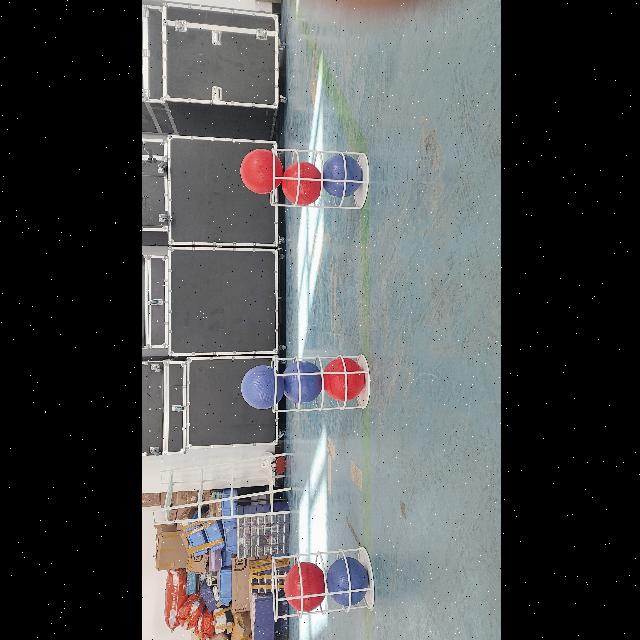B: (324, 556, 368, 606), (238, 365, 282, 409), (279, 361, 321, 403), (320, 156, 362, 198)
R: (238, 148, 282, 194), (283, 562, 323, 612), (278, 162, 322, 206), (322, 360, 362, 402)
S: (267, 546, 375, 626), (266, 139, 368, 211), (271, 354, 369, 422)
